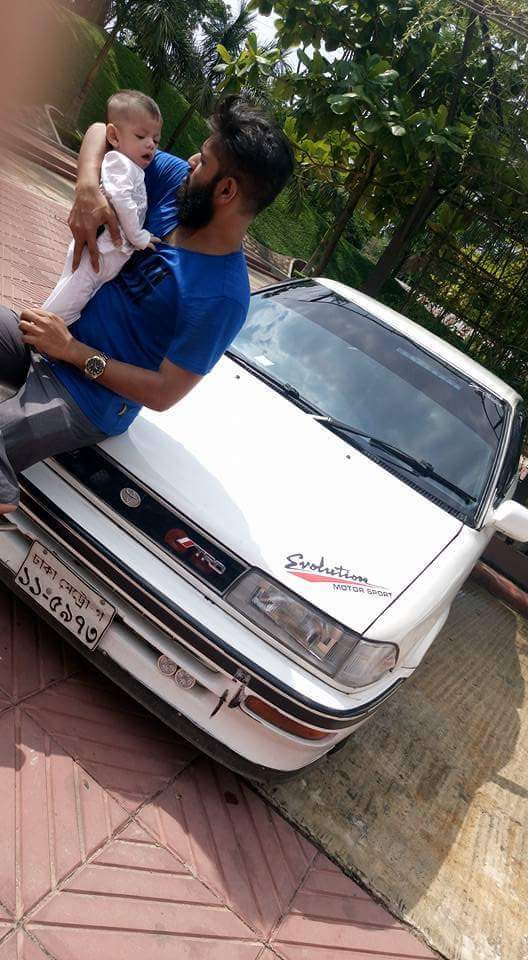registration_plate: (14, 539, 117, 654)
